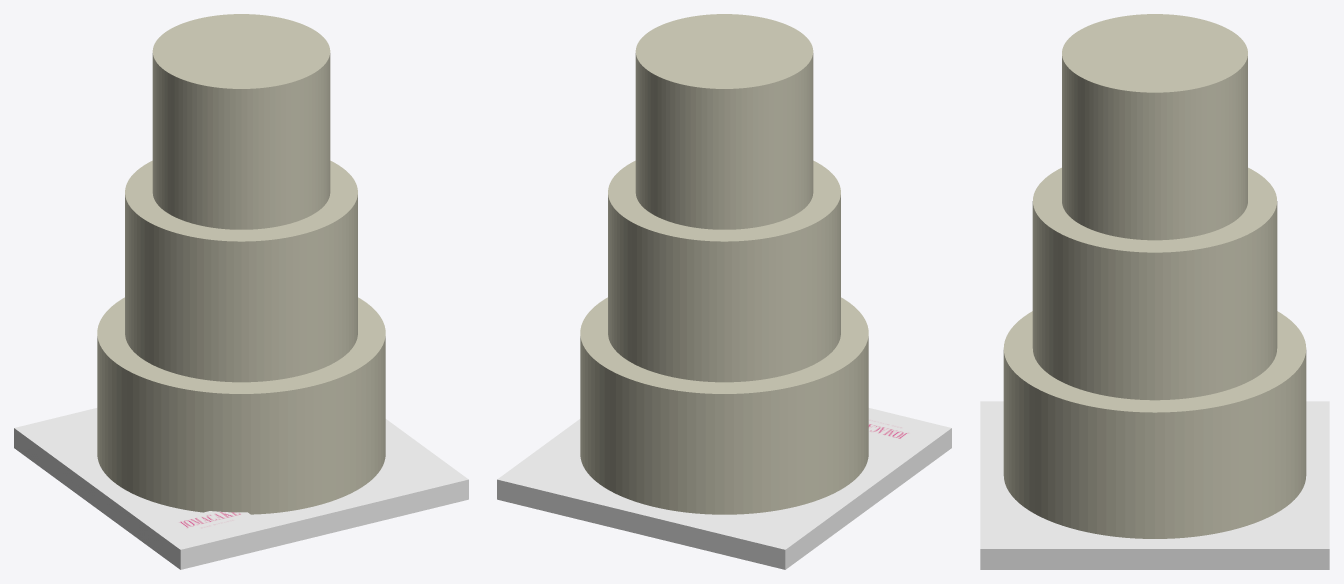
Rendered from cake_tier3_10-8-6_layers3_v42.glb.
3 views of the same model, side by side, from view 1: azimuth 30°, elevation 25°; view 2: azimuth 150°, elevation 25°; view 3: azimuth 270°, elevation 25° (orthographic). The views are drawn at different scales.
Parts seen in each view (by area): view 1: Tier0, Tier1, Tier2, Board, Logo; view 2: Tier0, Tier1, Tier2, Board, Logo; view 3: Tier0, Tier1, Tier2, Board.
Boxes of the visible parts, x1,y1,x2,y2 form: Tier0: [97, 297, 385, 514]; Tier1: [125, 160, 357, 382]; Tier2: [152, 14, 330, 229]; Board: [14, 408, 468, 569]; Logo: [168, 511, 256, 535]; Tier0: [580, 297, 868, 514]; Tier1: [608, 160, 840, 382]; Tier2: [635, 14, 813, 229]; Board: [497, 408, 951, 569]; Logo: [868, 415, 924, 443]; Tier0: [1003, 311, 1306, 538]; Tier1: [1032, 167, 1277, 400]; Tier2: [1062, 14, 1247, 240]; Board: [980, 401, 1329, 569].
Bounding box in the file's own units: 0.3 × 0.42 × 0.3.
